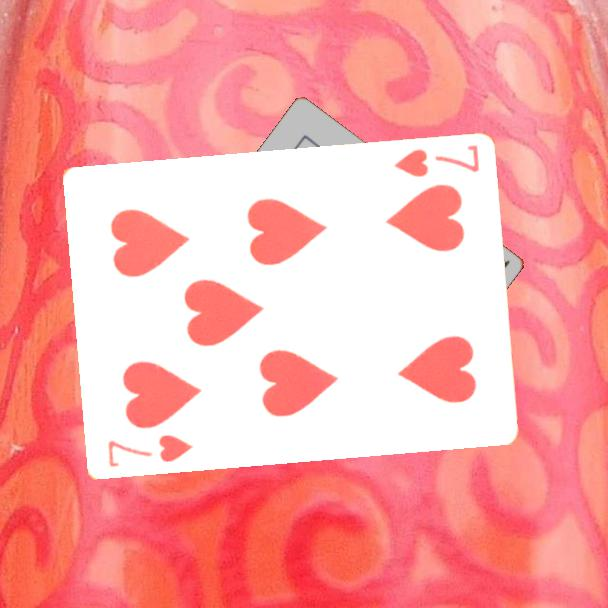h07: (104, 432, 195, 471), (390, 142, 482, 180)
